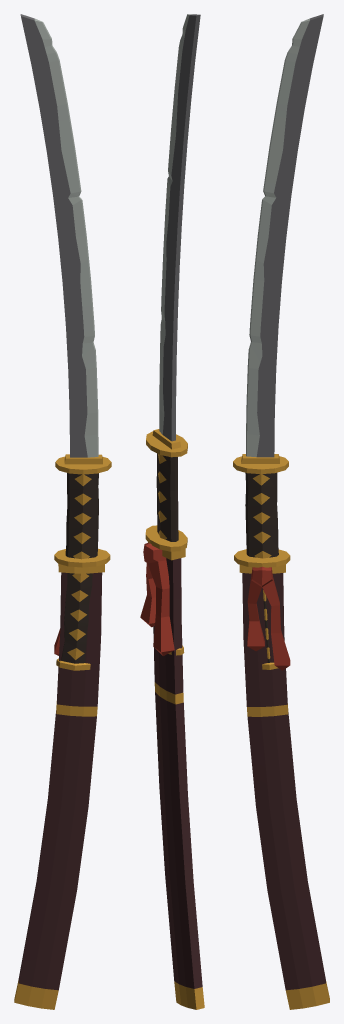
The model's file is SM_Wep_Odachi_01.glb.
3 views of the same model, side by side, from view 1: azimuth 90°, elevation 25°; view 2: azimuth 210°, elevation 25°; view 3: azimuth 270°, elevation 25° (orthographic).
Parts seen in each view (by area): view 1: SM_Wep_Odachi_01, SM_Wep_Odachi_Covered_01; view 2: SM_Wep_Odachi_Covered_01, SM_Wep_Odachi_01; view 3: SM_Wep_Odachi_Covered_01, SM_Wep_Odachi_01.
Boxes of the visible parts, x1,y1,x2,y2 form: SM_Wep_Odachi_01: (20,14,111,670); SM_Wep_Odachi_Covered_01: (14,548,110,1009); SM_Wep_Odachi_Covered_01: (140,525,204,1009); SM_Wep_Odachi_01: (146,14,200,655); SM_Wep_Odachi_Covered_01: (234,549,329,1009); SM_Wep_Odachi_01: (233,14,323,669).
Size of the model in its own units: 0.094 by 2.3 by 0.2037.
1 material, 1 textured.
